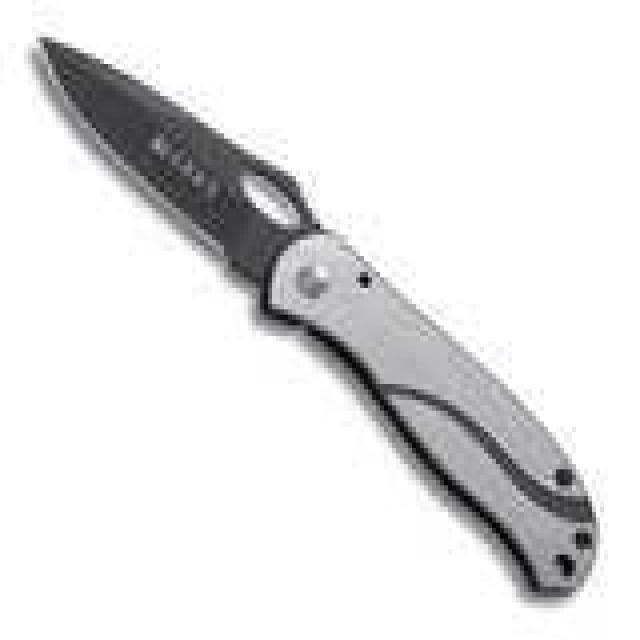Knife: (25, 28, 608, 620)
